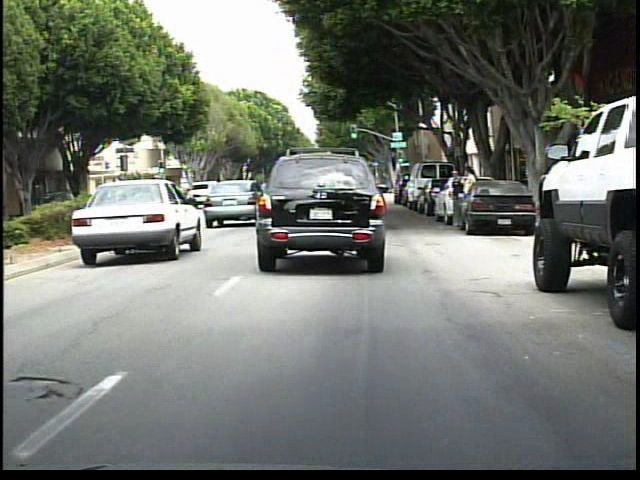person: (449, 169, 468, 233), (461, 164, 479, 226)
